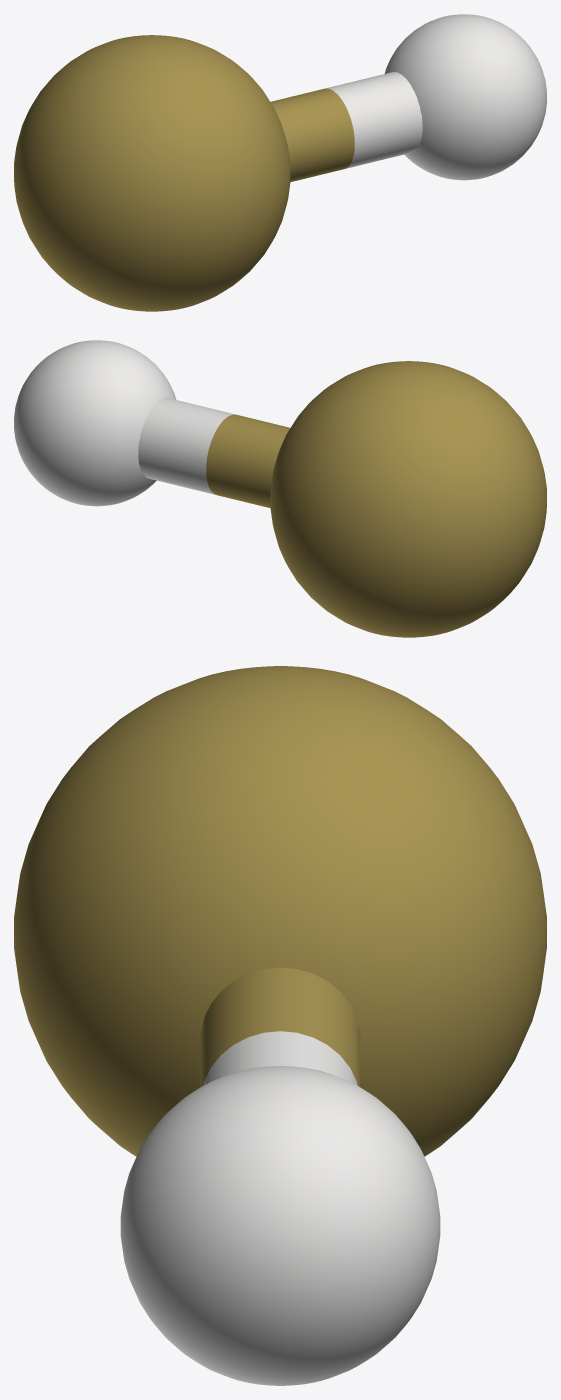
Rendered from HBr.gltf.
3 views of the same model, one above another, from view 1: azimuth 30°, elevation 25°; view 2: azimuth 150°, elevation 25°; view 3: azimuth 270°, elevation 25° (orthographic). The views are drawn at different scales.
Visible parts, largest first — view 1: Cylinder008; view 2: Cylinder008; view 3: Cylinder008.
Part boxes in pixels (x1,y1,x2,y2): Cylinder008: (14, 14, 546, 311); Cylinder008: (14, 340, 546, 637); Cylinder008: (14, 666, 546, 1385).
Bounding box in the file's own units: 20.97 × 10 × 9.98.
2 materials, 2 textured.
